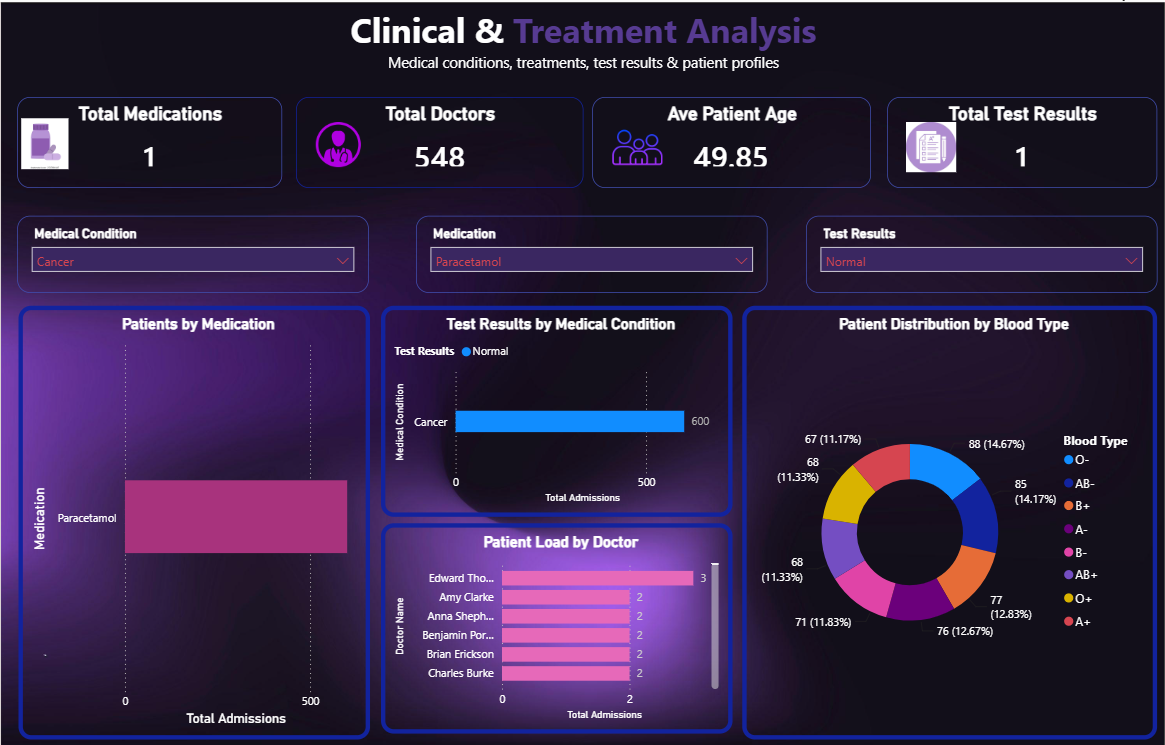

The page's visual inventory and layout, read from the dashboard file:
{"tool":"powerbi","page":{"name":"Clinical & Treatment Analysis","canvas":[1280,820],"ordinal":0},"visuals":[{"type":"textbox","box":[0,0,1280.6,85.2],"z":0},{"type":"cardVisual","title":"Total Doctors","fields":{"Data":["Fact_Patient_Admissions.Total Doctors"]},"box":[324.3,104.4,316,100.3],"z":1000},{"type":"cardVisual","title":"Ave Patient Age","fields":{"Data":["Fact_Patient_Admissions.Average Patient Age"]},"box":[649.9,104.4,306.4,100.3],"z":2000},{"type":"cardVisual","title":"Total Medications","fields":{"Data":["Fact_Patient_Admissions.Total Medications"]},"box":[17.9,104.4,291.3,100.3],"z":3000},{"type":"cardVisual","title":"Total Test Results","fields":{"Data":["Fact_Patient_Admissions.Total Test Results"]},"box":[974.2,104.4,296.8,100.3],"z":4000},{"type":"image","box":[20.6,127.8,55,56.3],"z":5000},{"type":"image","box":[338,131.9,66,49.5],"z":6000},{"type":"image","box":[671.9,115.4,55,89.3],"z":7000},{"type":"image","box":[994.8,131.9,55,55],"z":8000},{"type":"slicer","fields":{"Values":["Fact_Patient_Admissions.Medication"]},"box":[456.2,235,386.1,85.2],"z":9000},{"type":"slicer","fields":{"Values":["Fact_Patient_Admissions.Test Results"]},"box":[884.9,235,386.1,85.2],"z":10000},{"type":"slicer","fields":{"Values":["Fact_Patient_Admissions.Medical Condition"]},"box":[17.9,235,386.1,85.2],"z":11000},{"type":"barChart","title":"Patients by Medication","fields":{"Category":["Fact_Patient_Admissions.Medication"],"Y":["Fact_Patient_Admissions.Total Admissions"]},"box":[19.2,333.9,386.1,476.8],"z":12000},{"type":"clusteredBarChart","title":"Test Results by Medical Condition","fields":{"Category":["Fact_Patient_Admissions.Medical Condition"],"Y":["Fact_Patient_Admissions.Total Admissions"],"Series":["Fact_Patient_Admissions.Test Results"]},"box":[417.7,333.9,386.1,232.2],"z":13000},{"type":"donutChart","title":"Patient Distribution by Blood Type","fields":{"Category":["Fact_Patient_Admissions.Blood Type"],"Y":["Fact_Patient_Admissions.Total Admissions"]},"box":[814.8,333.9,456.2,476.8],"z":14000},{"type":"clusteredBarChart","title":"Patient Load by Doctor","fields":{"Category":["Fact_Patient_Admissions.Doctor Name"],"Y":["Fact_Patient_Admissions.Total Admissions"]},"box":[417.7,573,386.1,230.8],"z":15000}]}

Visuals, with their boxes in screenshot pixels (x1, y1, x2, y2), scaled from the page's 1280x820 canvas onto the 1165x745 screenshot:
textbox: (left=0, top=0, right=1164, bottom=77)
"Total Doctors" cardVisual: (left=295, top=95, right=583, bottom=186)
"Ave Patient Age" cardVisual: (left=592, top=95, right=870, bottom=186)
"Total Medications" cardVisual: (left=16, top=95, right=281, bottom=186)
"Total Test Results" cardVisual: (left=887, top=95, right=1157, bottom=186)
image: (left=19, top=116, right=69, bottom=167)
image: (left=308, top=120, right=368, bottom=165)
image: (left=612, top=105, right=662, bottom=186)
image: (left=905, top=120, right=955, bottom=170)
slicer - Fact_Patient_Admissions.Medication: (left=415, top=214, right=767, bottom=291)
slicer - Fact_Patient_Admissions.Test Results: (left=805, top=214, right=1157, bottom=291)
slicer - Fact_Patient_Admissions.Medical Condition: (left=16, top=214, right=368, bottom=291)
"Patients by Medication" barChart: (left=17, top=303, right=369, bottom=737)
"Test Results by Medical Condition" clusteredBarChart: (left=380, top=303, right=732, bottom=514)
"Patient Distribution by Blood Type" donutChart: (left=742, top=303, right=1157, bottom=737)
"Patient Load by Doctor" clusteredBarChart: (left=380, top=521, right=732, bottom=730)
